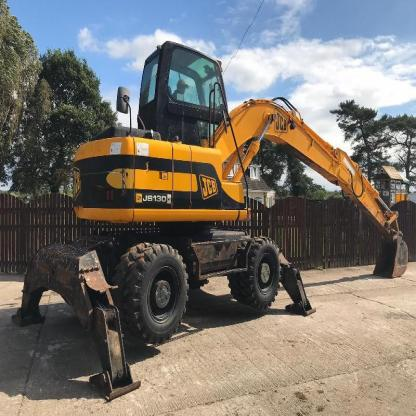excavator: (37, 34, 414, 388)
